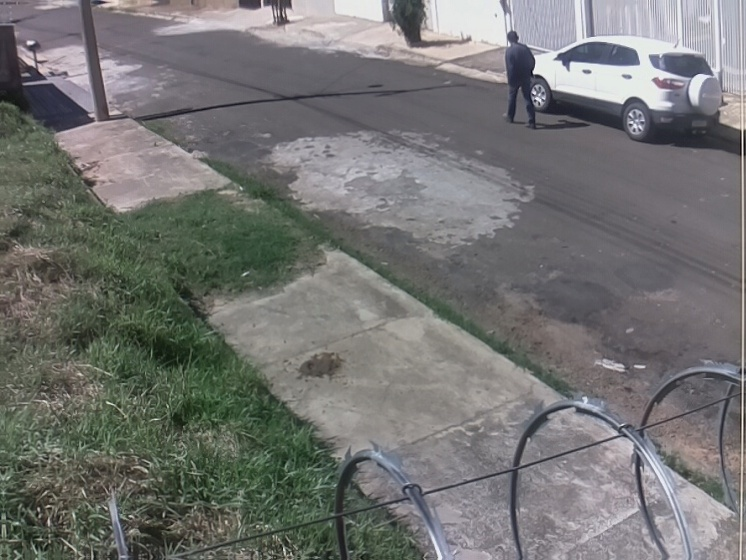person: (501, 30, 538, 131)
